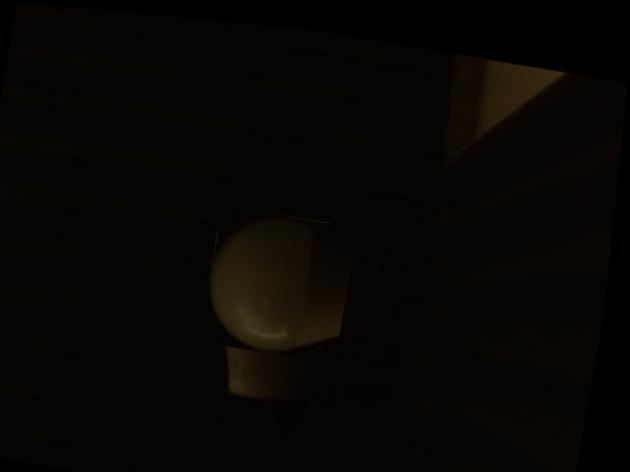Fan: (203, 200, 361, 356)
